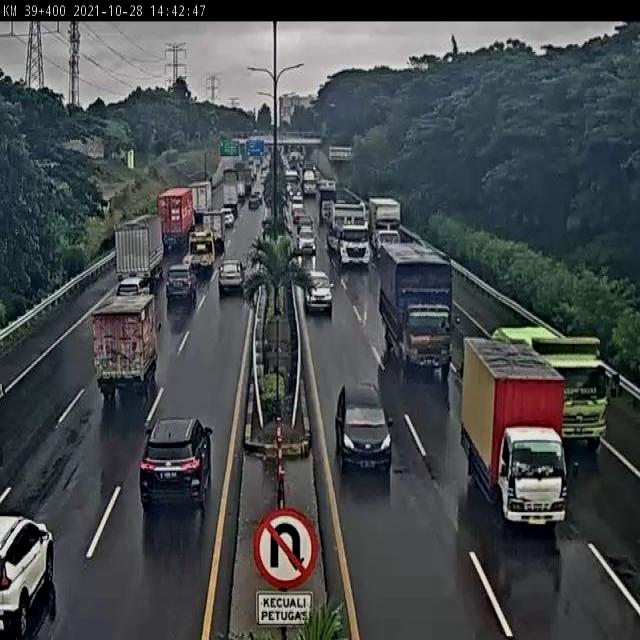Car: (0, 515, 56, 640), (141, 420, 215, 510), (337, 382, 400, 486), (307, 270, 335, 320), (166, 264, 198, 301), (219, 259, 247, 295), (295, 226, 318, 258), (247, 195, 259, 210)
Truck: (459, 332, 569, 530), (492, 327, 621, 450), (380, 244, 462, 384), (93, 288, 165, 398), (115, 211, 165, 286), (328, 202, 371, 268), (156, 188, 195, 250), (370, 198, 401, 255), (183, 227, 216, 274), (202, 212, 224, 250), (319, 188, 339, 224), (188, 182, 212, 211), (218, 183, 240, 214), (302, 170, 316, 199), (218, 210, 235, 227)
